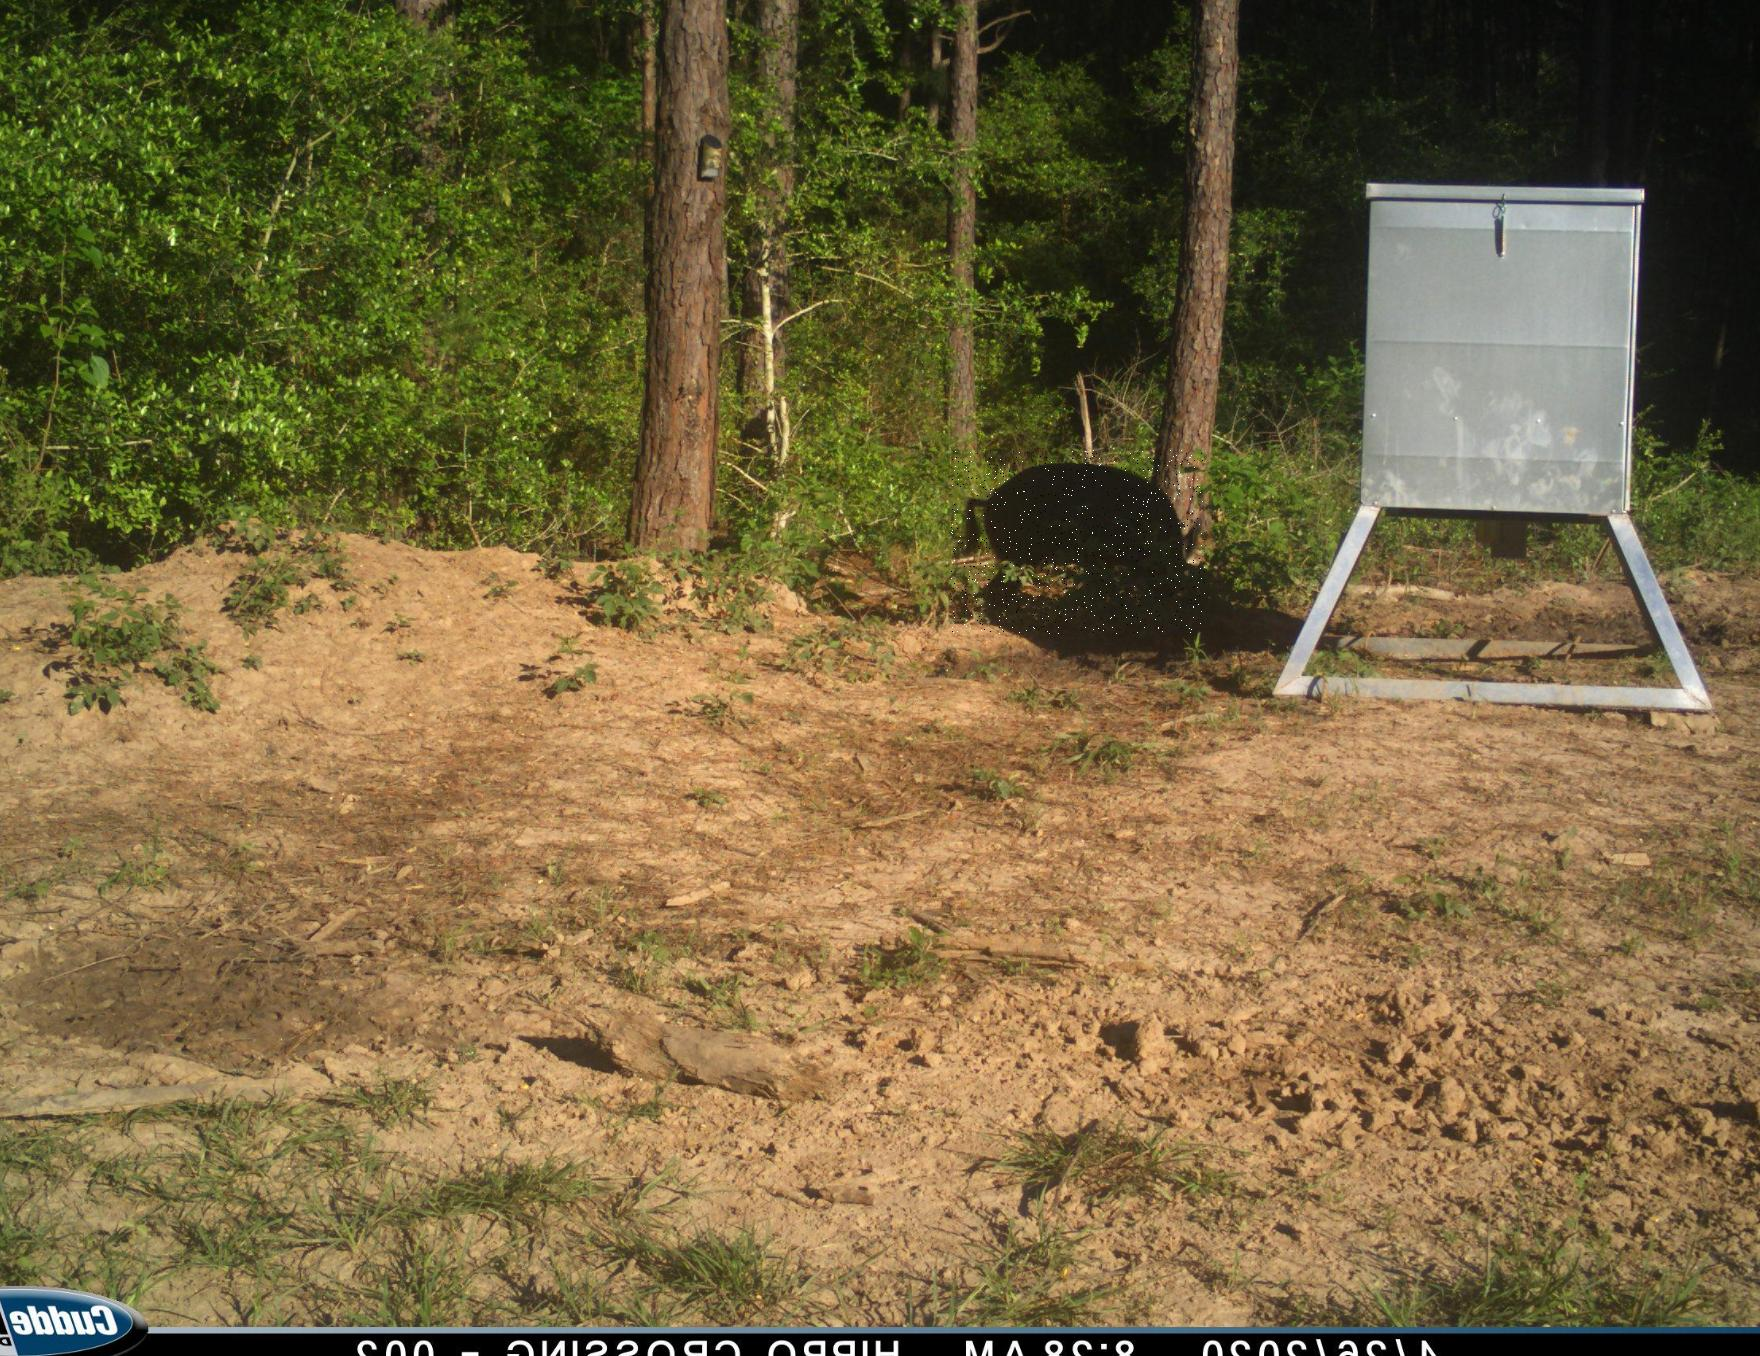Hog: (951, 450, 1205, 634)
